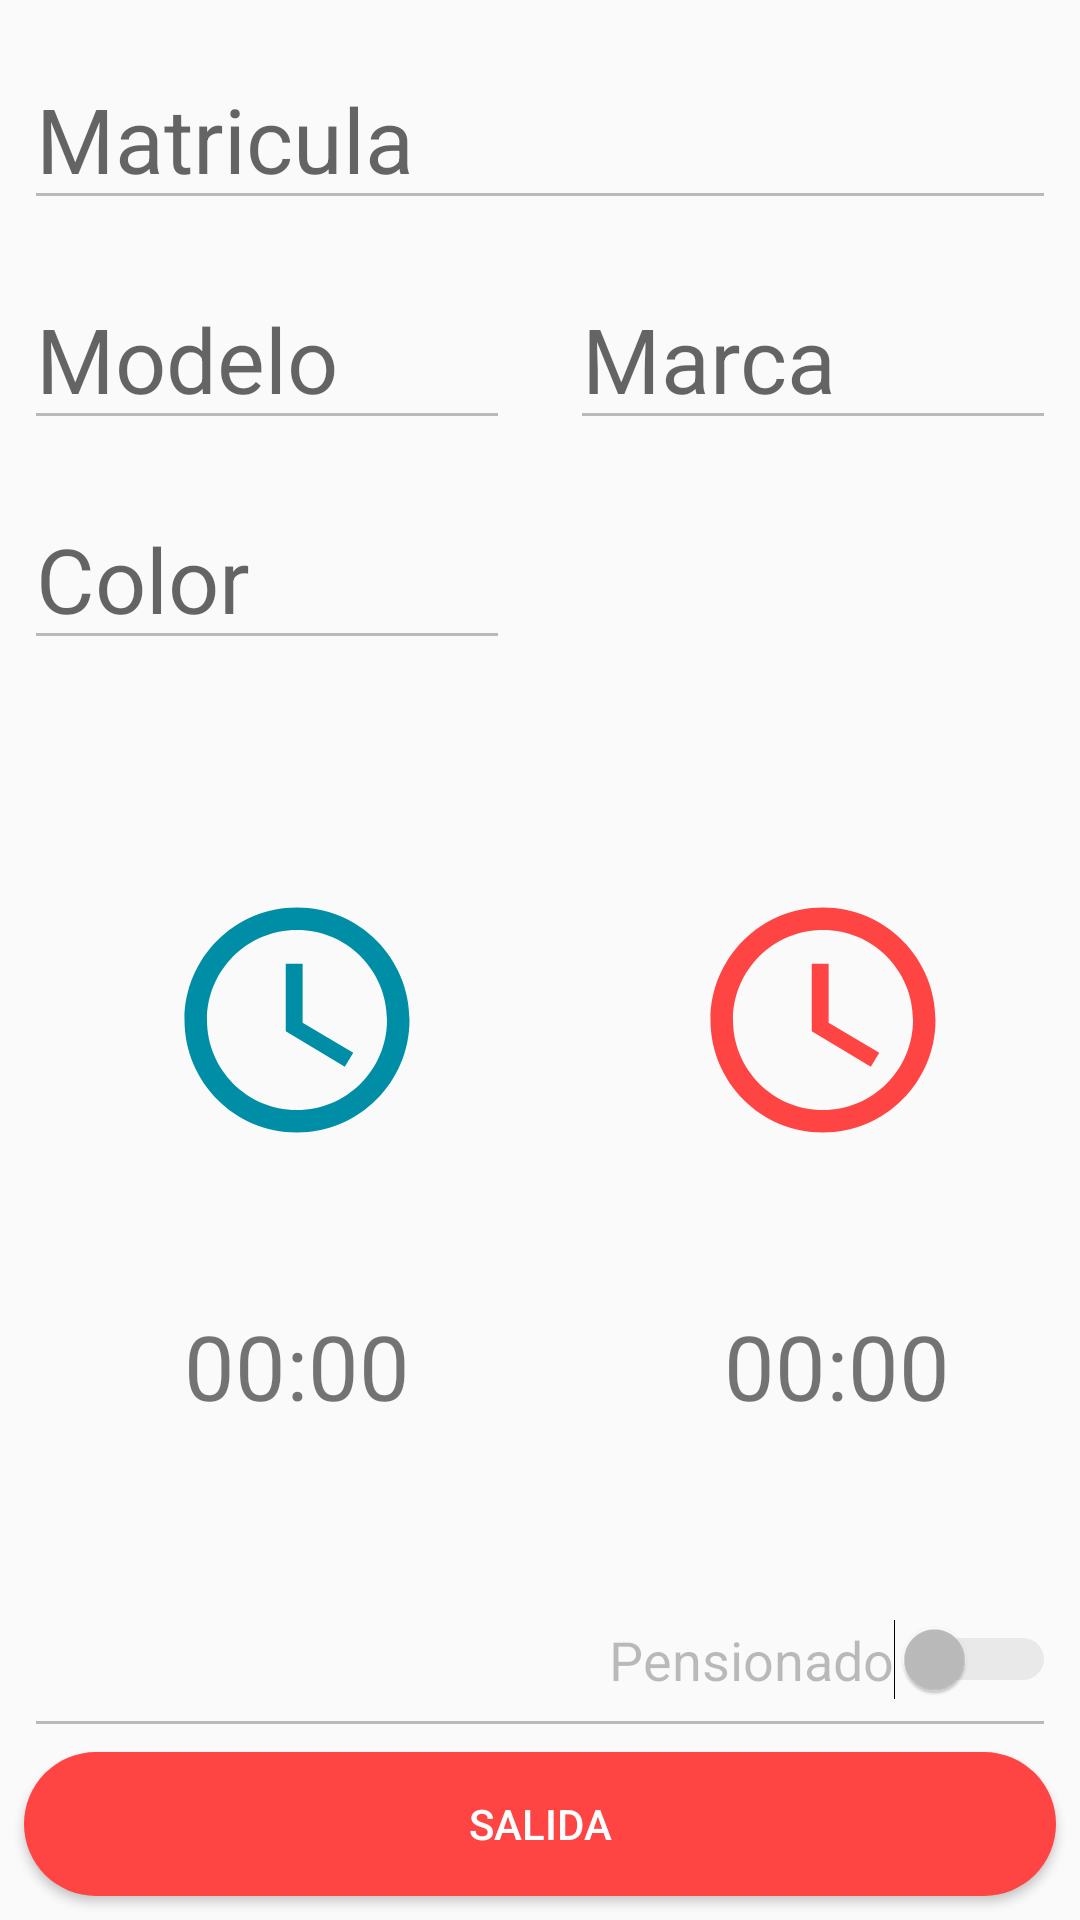

Locate icon controls on the screen. Image size 1080w x 1920h, boxes as (x1, y1, x2, y2).
access time: (184, 907, 410, 1133), (710, 907, 936, 1133)
